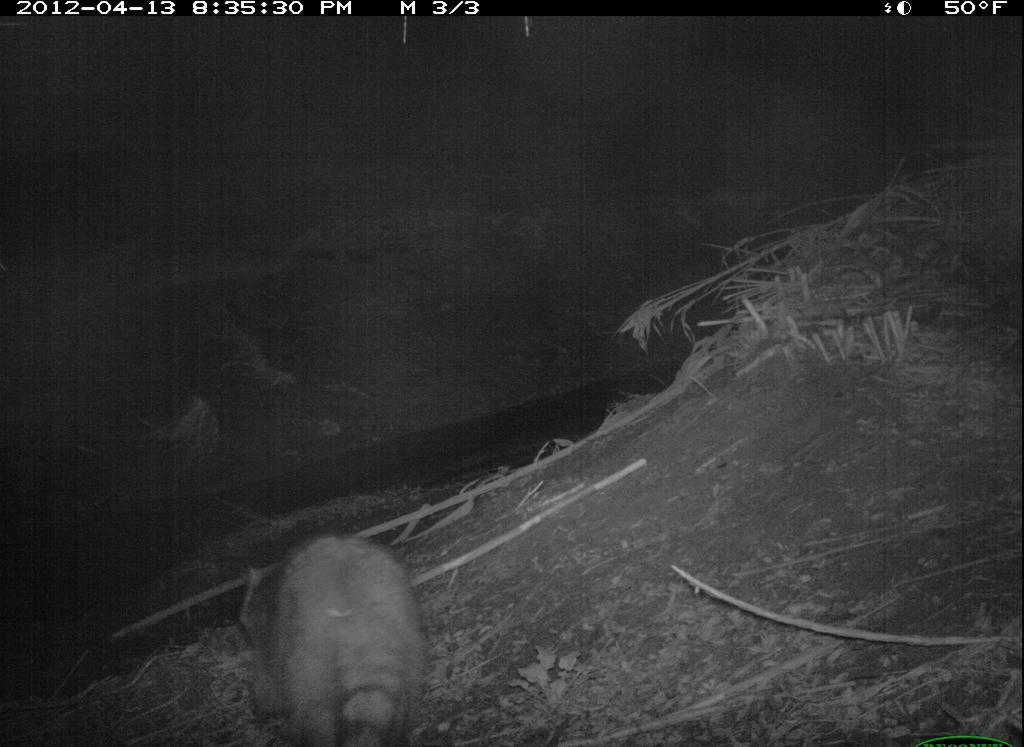raccoon: (226, 530, 436, 745)
